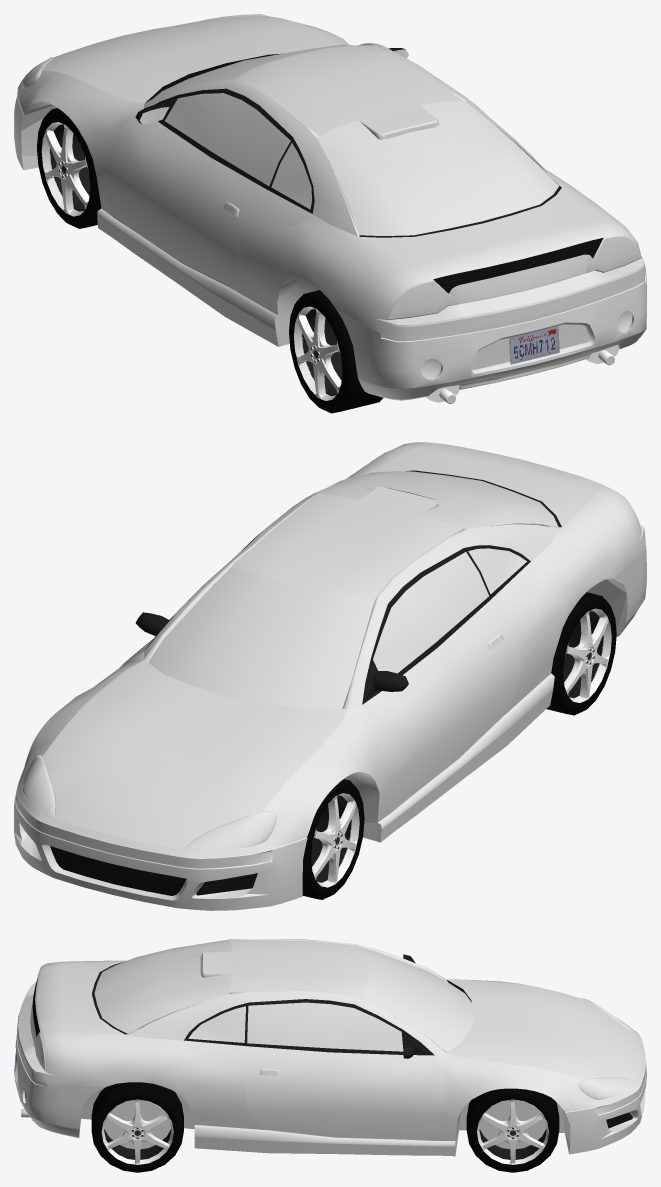
The model's file is MCLA_VA_MB_ECLIPSE_04.glb.
3 renders of one model, top to bottom at view 1: azimuth 30°, elevation 25°; view 2: azimuth 150°, elevation 25°; view 3: azimuth 270°, elevation 25°, orthographic. The views are drawn at different scales.
Parts seen in each view (by area): view 1: va_mb_eclipse_04/resources/vehicle/va_mb_eclipse_04/body_lod (×6); view 2: va_mb_eclipse_04/resources/vehicle/va_mb_eclipse_04/body_lod (×6); view 3: va_mb_eclipse_04/resources/vehicle/va_mb_eclipse_04/body_lod (×6).
Part boxes in pixels (left/top/right/bottom): va_mb_eclipse_04/resources/vehicle/va_mb_eclipse_04/body_lod (×6): left=14, top=14, right=646, bottom=413; va_mb_eclipse_04/resources/vehicle/va_mb_eclipse_04/body_lod (×6): left=14, top=442, right=646, bottom=910; va_mb_eclipse_04/resources/vehicle/va_mb_eclipse_04/body_lod (×6): left=14, top=939, right=646, bottom=1172.
Bounding box in the file's own units: 1.72 × 1.26 × 4.45.
Materials: 11 (7 with a texture image).
